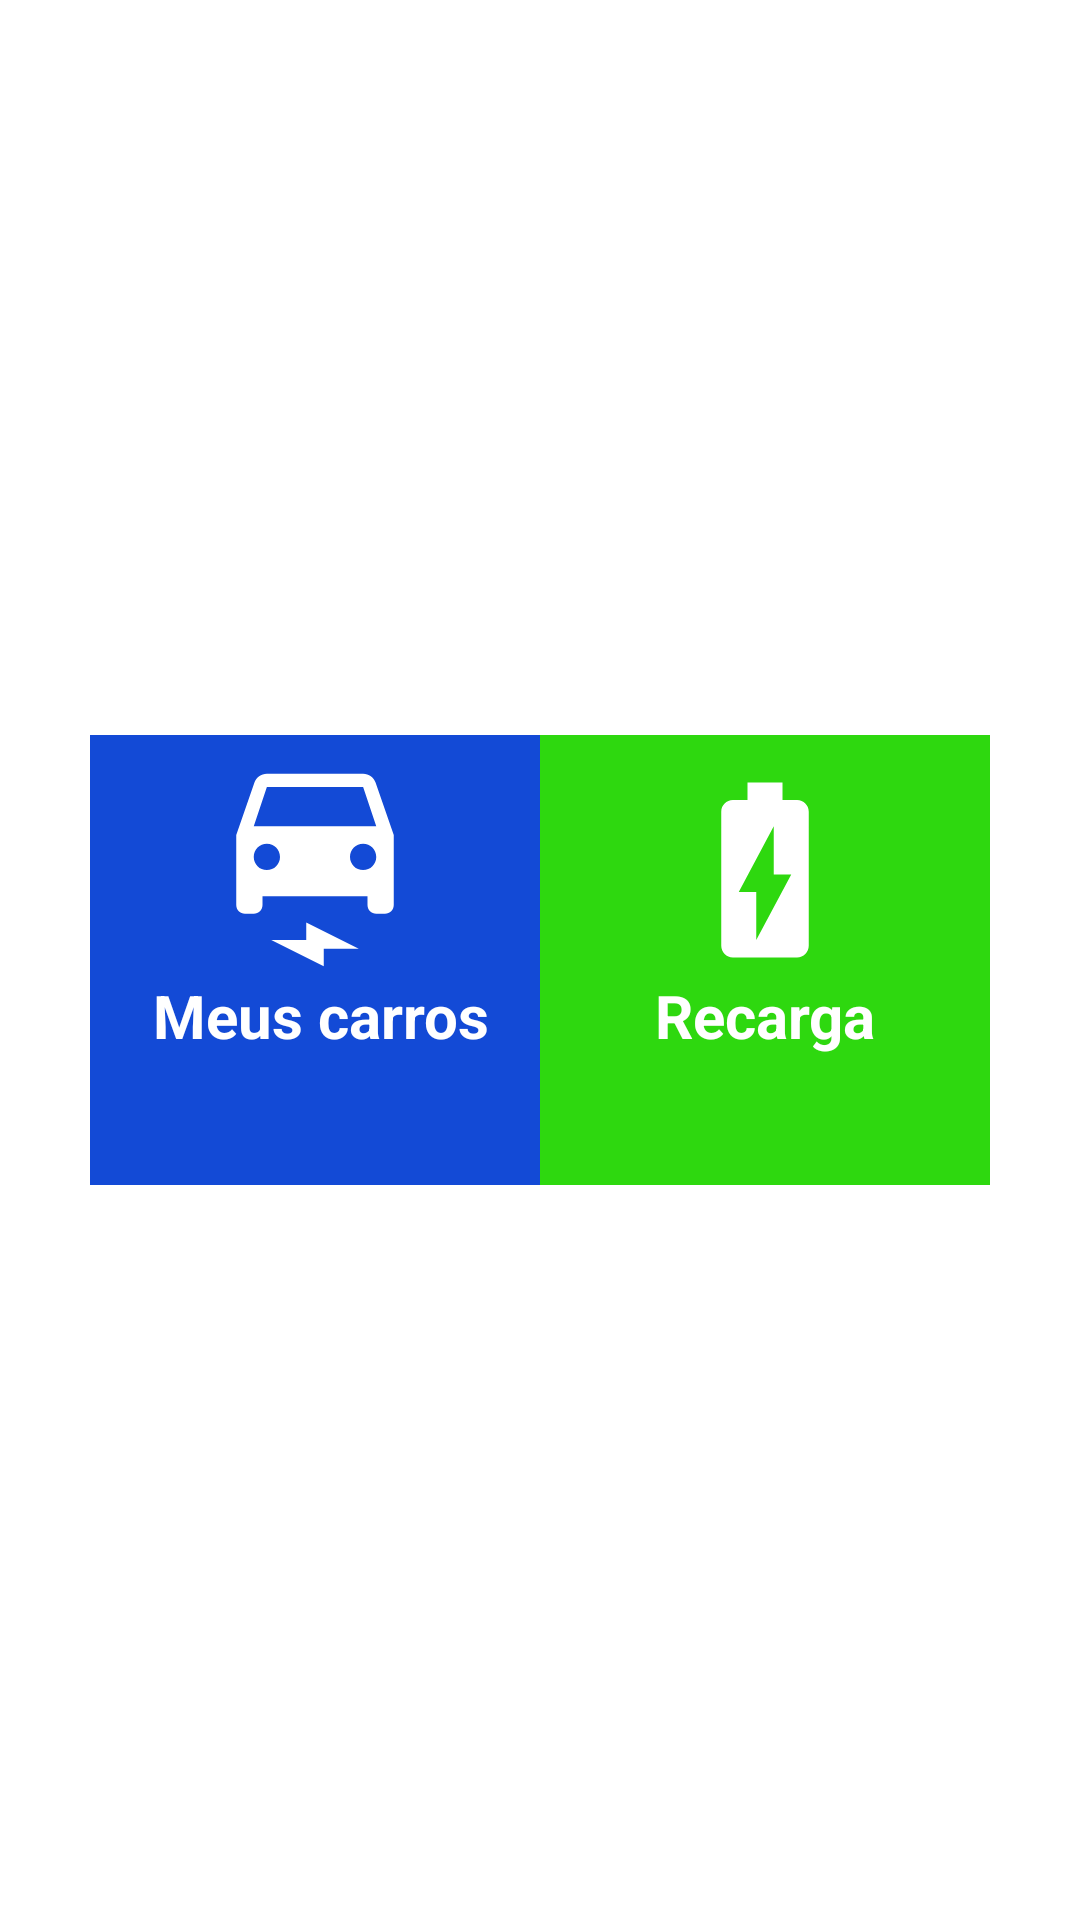

Icon bounding boxes for this 1080×1920 phone screenshot, format bbox=(x1, y1, x2, y2):
electric car: bbox=(236, 773, 394, 966)
